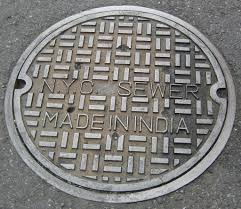manhole: (2, 2, 240, 207)
